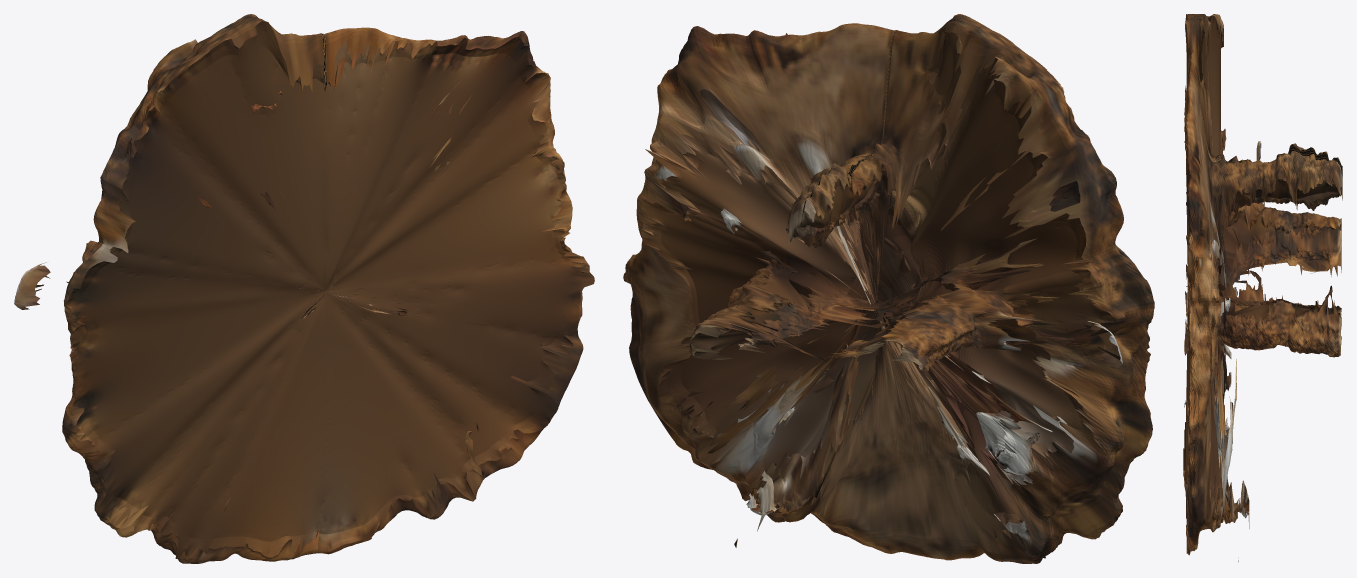
Rendered from membrane3_mesh.glb.
3 views of the same model, side by side, from view 1: azimuth 30°, elevation 25°; view 2: azimuth 150°, elevation 25°; view 3: azimuth 270°, elevation 25° (orthographic). The views are drawn at different scales.
Visible parts, largest first — view 1: fill, ipn; view 2: ipn, fill; view 3: ipn, fill.
Part boxes in pixels (x1,y1,x2,y2): fill: [35, 21, 594, 558]; ipn: [14, 14, 590, 563]; ipn: [623, 14, 1154, 563]; fill: [641, 26, 1149, 551]; ipn: [1183, 14, 1342, 561]; fill: [1183, 16, 1342, 543].
Size of the model in its own units: 1.88 by 1.85 by 0.5753.
Materials: 2 (1 with a texture image).
